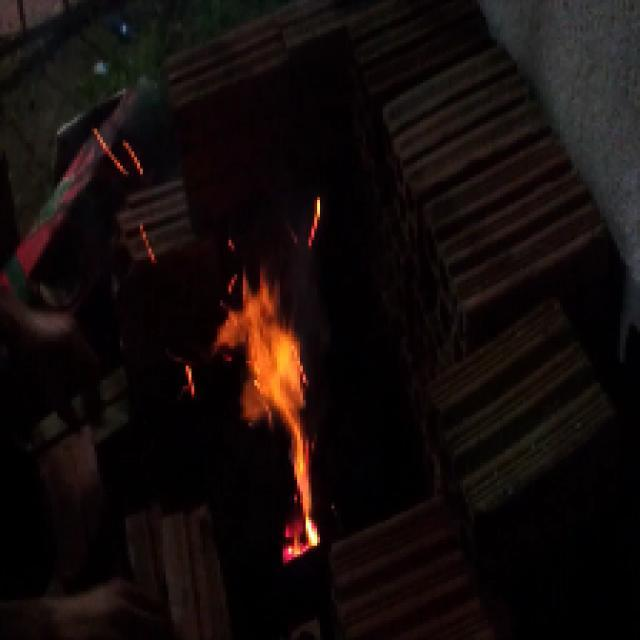Fire: (208, 273, 312, 561)
